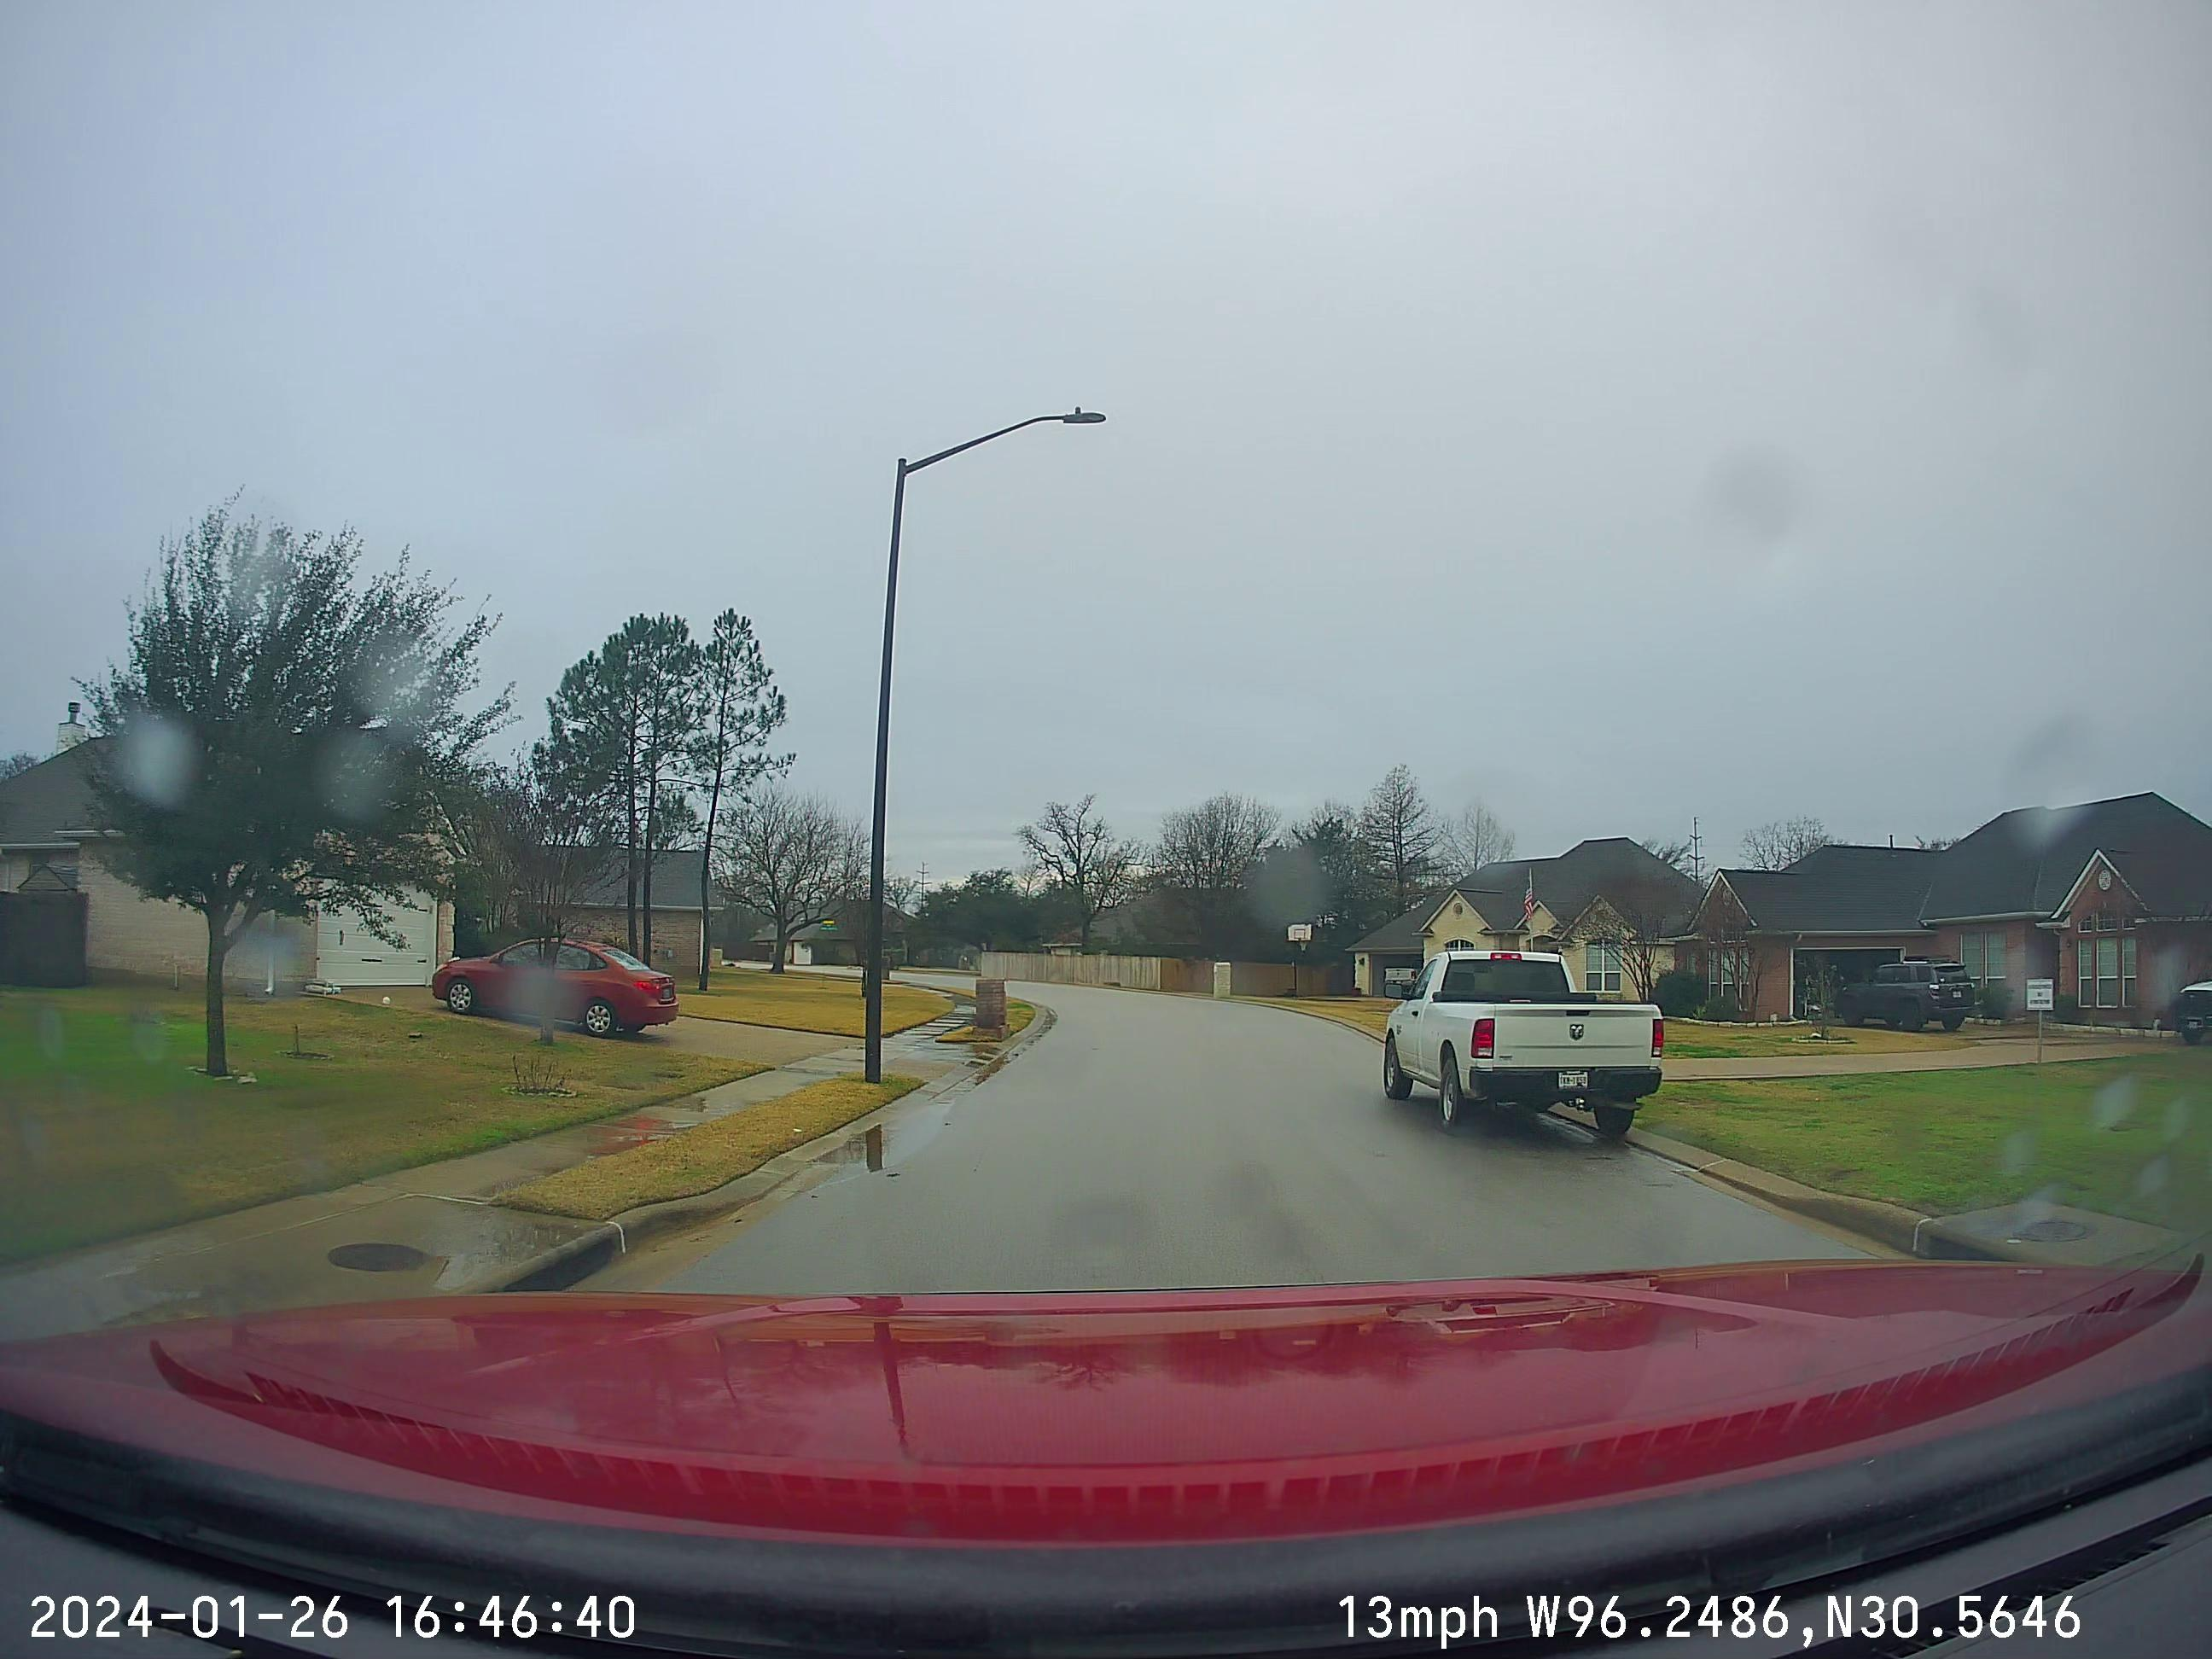car: (1383, 948, 1662, 1136), (430, 938, 678, 1037)
truck: (1383, 946, 1662, 1136)
